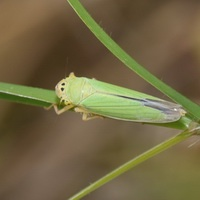insect: (55, 73, 191, 128), (55, 73, 185, 122)
